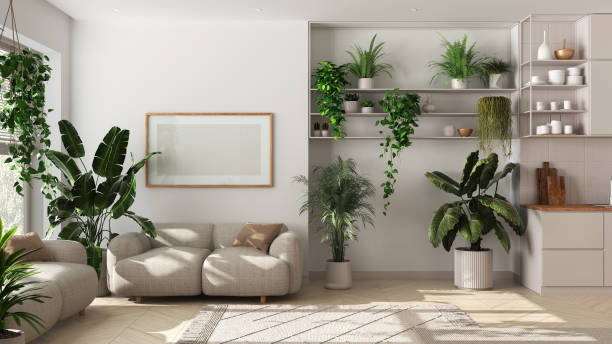large plant: (43, 117, 156, 265), (423, 149, 529, 290), (299, 156, 376, 292)
small plant: (430, 33, 479, 89), (347, 33, 389, 89), (479, 54, 514, 87), (343, 92, 359, 113), (361, 97, 372, 113)
sofa: (104, 219, 306, 306), (0, 229, 97, 339)
wall art: (143, 111, 275, 189)
